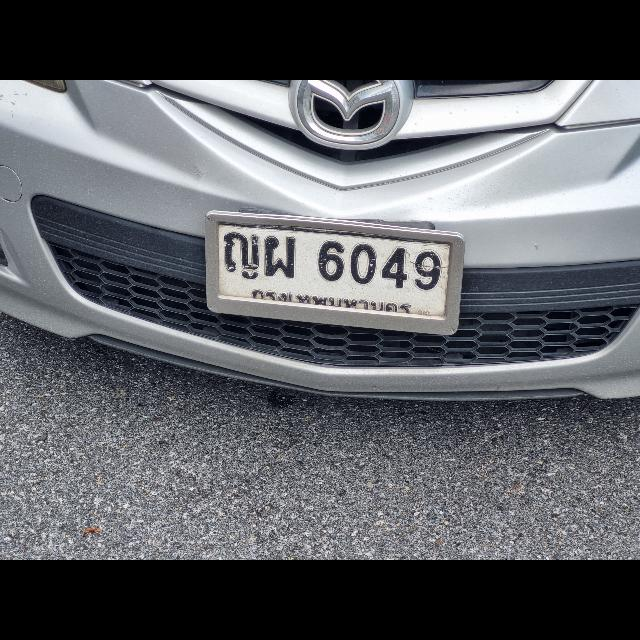licenseplate: (204, 210, 464, 338)
